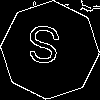S: (25, 25, 62, 73)
